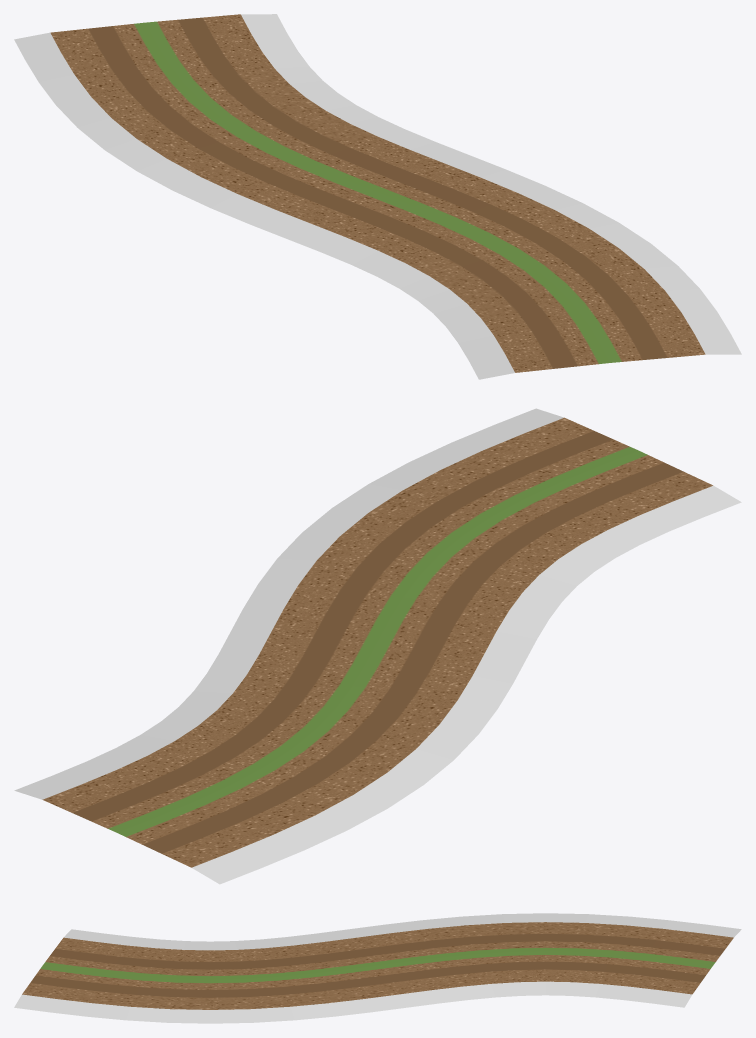
Rendered from ENV_Road_Dirt.fbx.
3 renders of one model, top to bottom at view 1: azimuth 30°, elevation 25°; view 2: azimuth 150°, elevation 25°; view 3: azimuth 270°, elevation 25°, orthographic. The views are drawn at different scales.
Parts seen in each view (by area): view 1: ENV_Road_Dirt_Surface, ENV_Road_Dirt_Surface_Edges; view 2: ENV_Road_Dirt_Surface, ENV_Road_Dirt_Surface_Edges; view 3: ENV_Road_Dirt_Surface, ENV_Road_Dirt_Surface_Edges.
Part boxes in pixels (<box>): ENV_Road_Dirt_Surface: <box>50,14,705,372</box>; ENV_Road_Dirt_Surface_Edges: <box>14,14,741,379</box>; ENV_Road_Dirt_Surface: <box>42,417,712,867</box>; ENV_Road_Dirt_Surface_Edges: <box>14,408,741,884</box>; ENV_Road_Dirt_Surface: <box>22,922,733,1009</box>; ENV_Road_Dirt_Surface_Edges: <box>14,913,741,1023</box>.
Size of the model in its own units: 7.8 by 0.1 by 21.71.
Materials: 2 (1 with a texture image).
